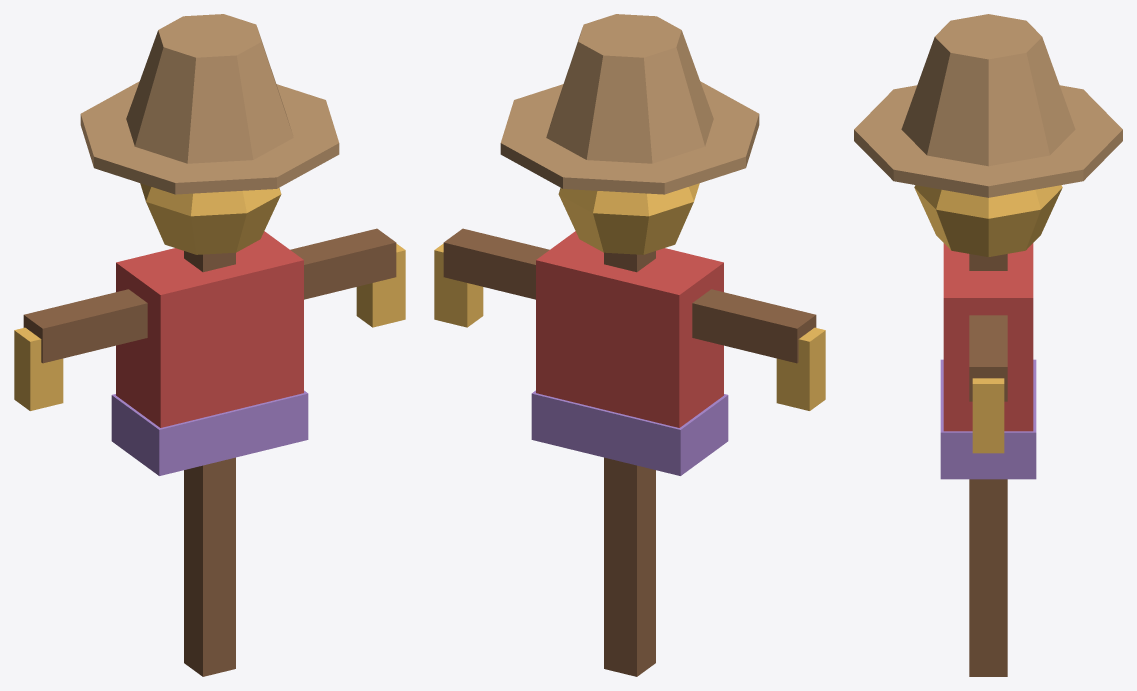
Rendered from deco_scarecrow.obj.
The picture shows the model from 3 angles, left to right: view 1: azimuth 30°, elevation 25°; view 2: azimuth 150°, elevation 25°; view 3: azimuth 270°, elevation 25°; orthographic projection.
Parts seen in each view (by area): view 1: deco_scarecrow; view 2: deco_scarecrow; view 3: deco_scarecrow.
Part boxes in pixels (x1=…): deco_scarecrow: x1=14, y1=14, x2=405, y2=676; deco_scarecrow: x1=434, y1=14, x2=825, y2=676; deco_scarecrow: x1=854, y1=14, x2=1122, y2=676.
Bounding box in the file's own units: 0.034 × 0.0545 × 0.021.
1 material, 1 textured.
